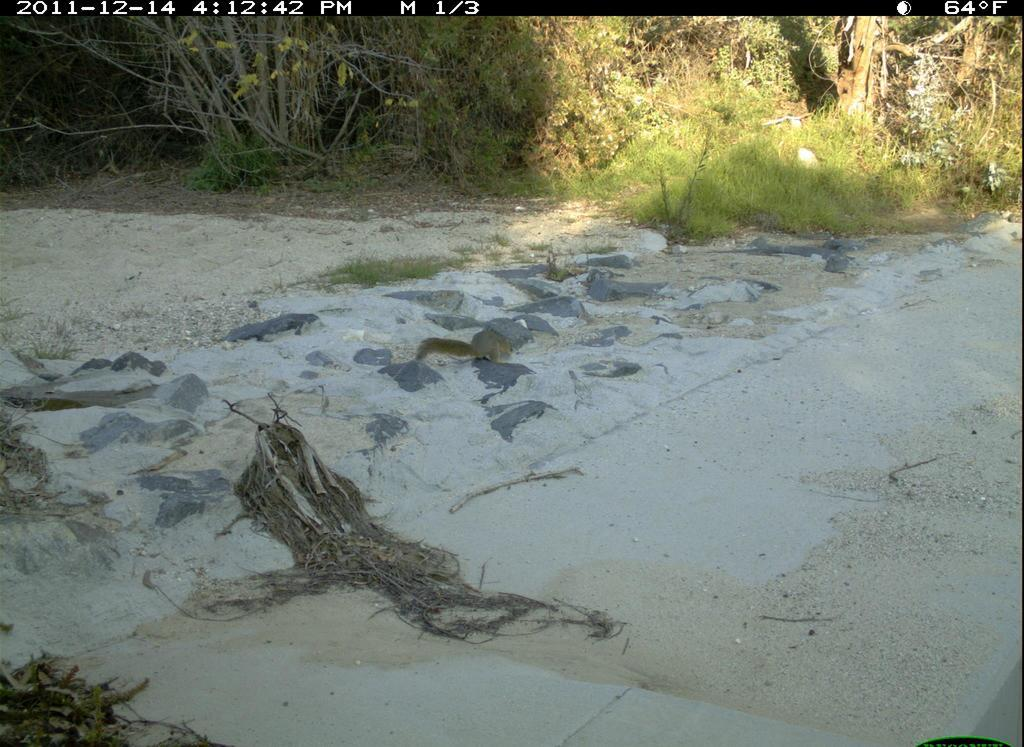squirrel: (410, 321, 519, 370)
